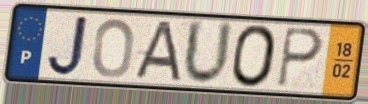A: (129, 19, 184, 84)
J: (45, 13, 91, 78)
O: (230, 23, 279, 90), (91, 16, 137, 80)
P: (276, 25, 325, 90)
U: (180, 17, 236, 88)
